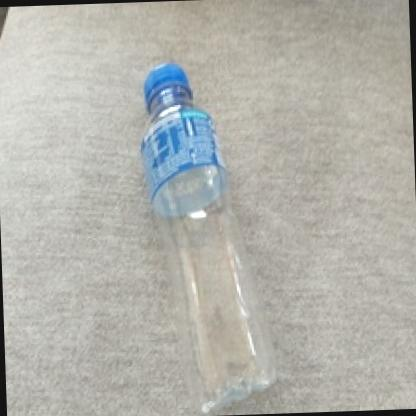plastic_bottles: (137, 56, 280, 416)
